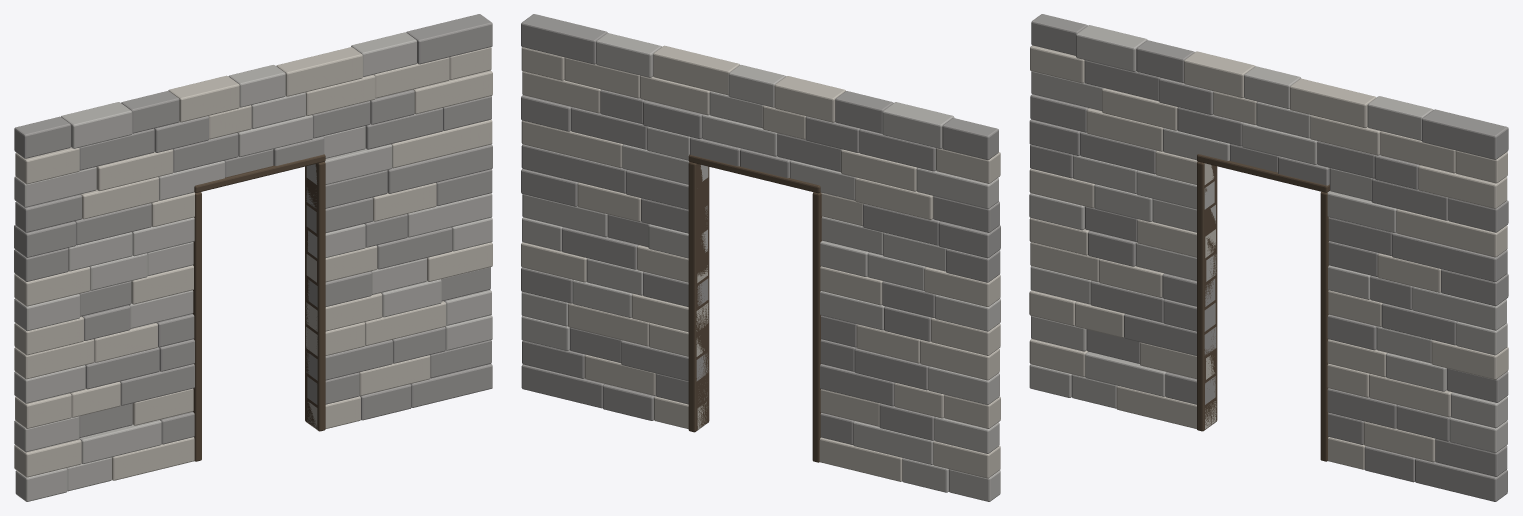
The model's file is SM_Stone_Wall_Door.fbx.
3 renders of one model, left to right at view 1: azimuth 30°, elevation 25°; view 2: azimuth 150°, elevation 25°; view 3: azimuth 330°, elevation 25°, orthographic.
Parts seen in each view (by area): view 1: SM_Stone_Wall_Door; view 2: SM_Stone_Wall_Door; view 3: SM_Stone_Wall_Door.
Part boxes in pixels (left/top/right/bottom): SM_Stone_Wall_Door: left=14, top=14, right=492, bottom=501; SM_Stone_Wall_Door: left=521, top=14, right=1000, bottom=501; SM_Stone_Wall_Door: left=1029, top=14, right=1508, bottom=501.
Size of the model in its own units: 4 by 3 by 0.22.
